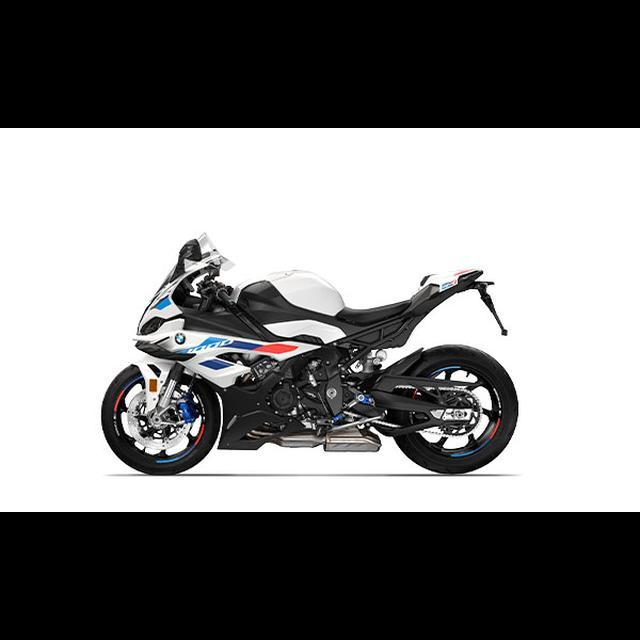motorcycle: (97, 227, 524, 483)
